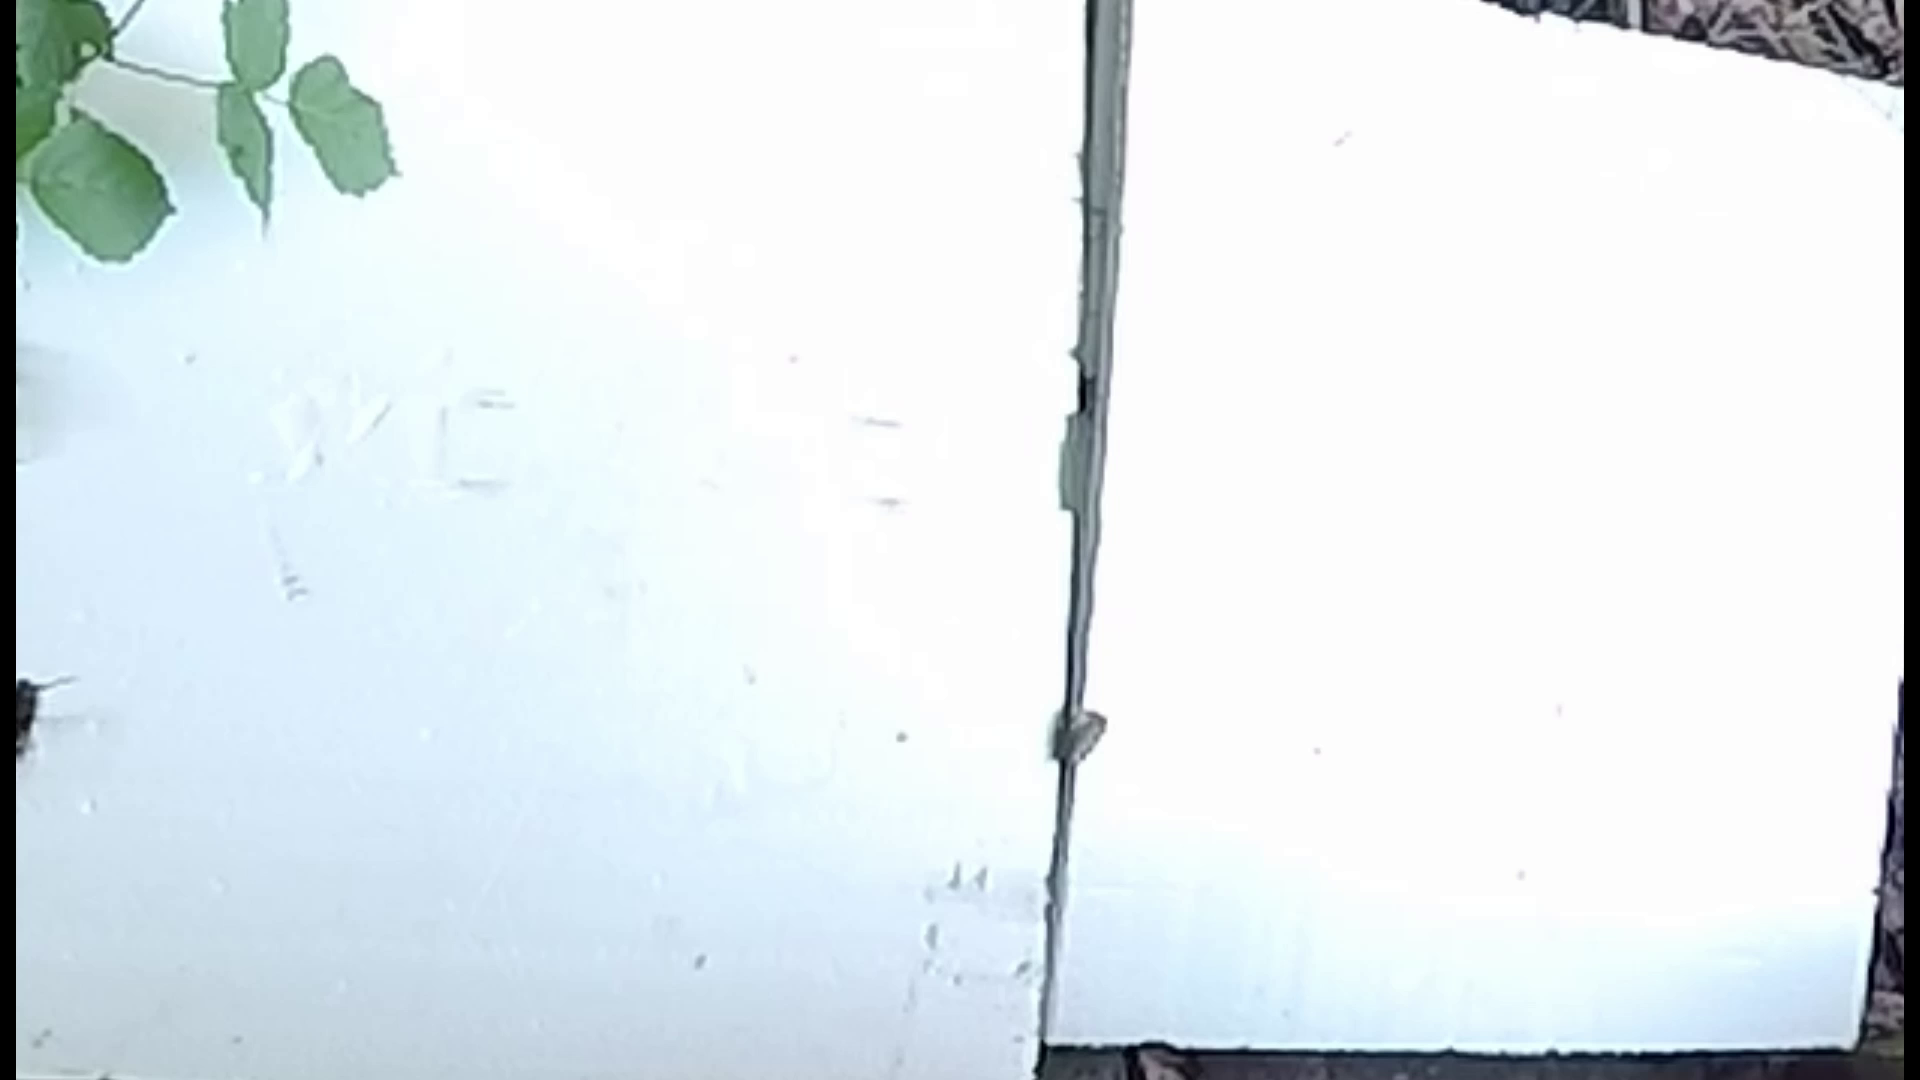Asian_hornets: (16, 647, 103, 777)
